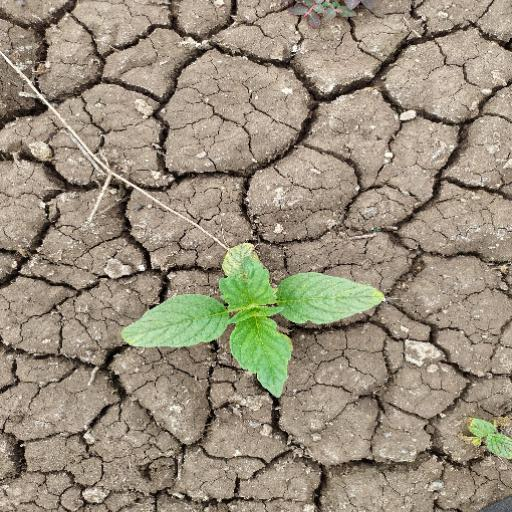crop: (116, 242, 397, 393)
